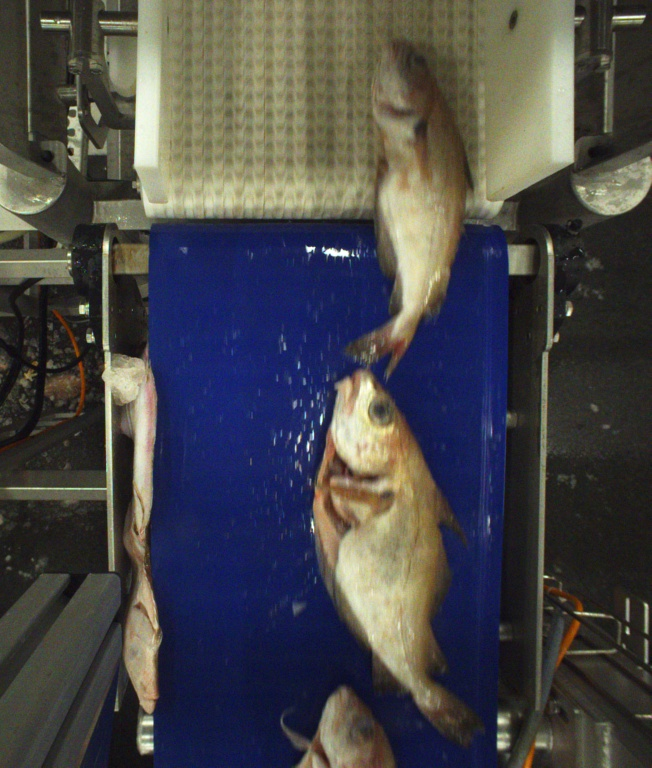BIB: (351, 30, 468, 373)
